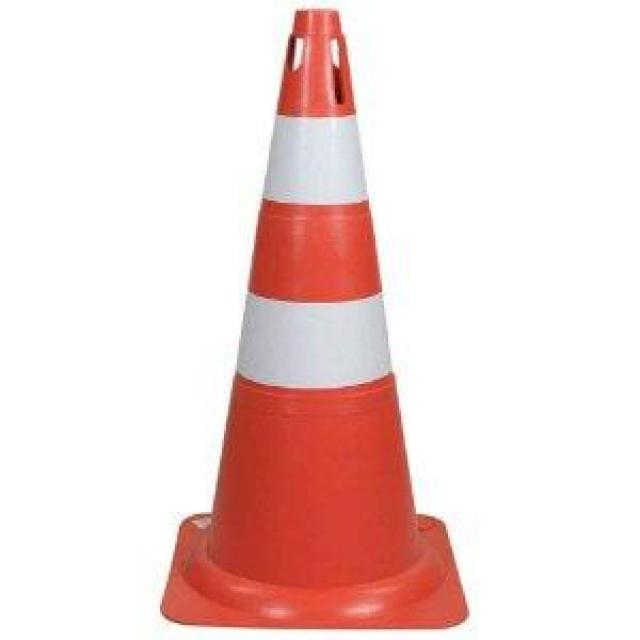cone: (152, 7, 478, 634)
